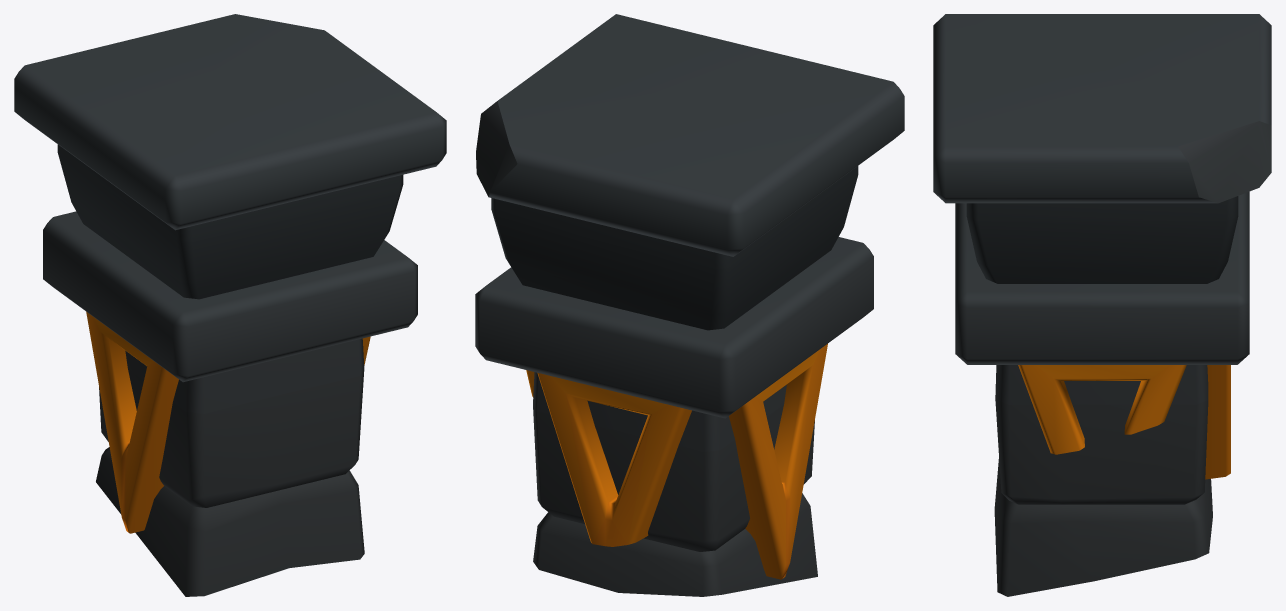
File: column_big_broken_002.glb
3 views of the same model, side by side, from view 1: azimuth 30°, elevation 25°; view 2: azimuth 150°, elevation 25°; view 3: azimuth 270°, elevation 25° (orthographic). The views are drawn at different scales.
Parts seen in each view (by area): view 1: ColumnBigBroken_002; view 2: ColumnBigBroken_002; view 3: ColumnBigBroken_002.
Boxes of the visible parts, x1,y1,x2,y2 form: ColumnBigBroken_002: (14, 14, 446, 596); ColumnBigBroken_002: (475, 14, 904, 596); ColumnBigBroken_002: (933, 14, 1271, 596).
Bounding box in the file's own units: 1.2 × 1.85 × 1.2.
